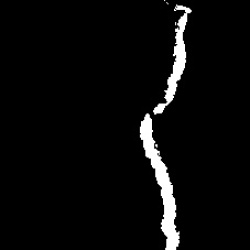crack: (141, 112, 181, 250), (154, 7, 193, 115)
